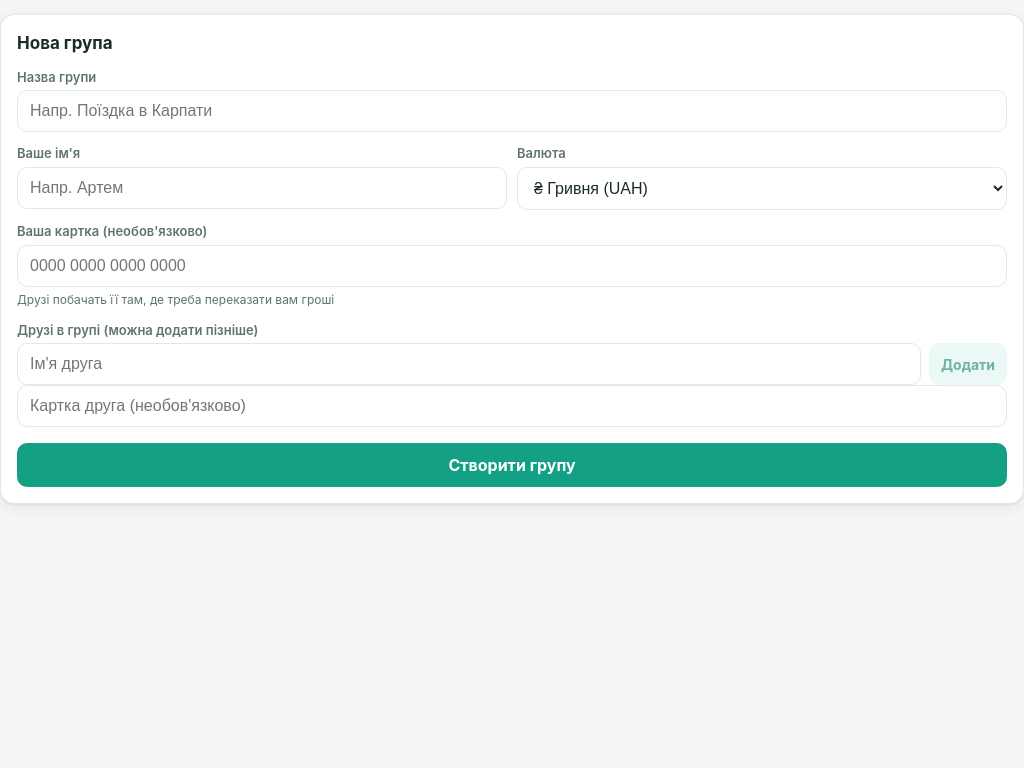
Test: CreateGroupForm › shows the server error and stays on the form
Step 1. Type "Карпати" into the field labelled "Назва групи" → coordinates (512, 112), box [17,90,1007,132]
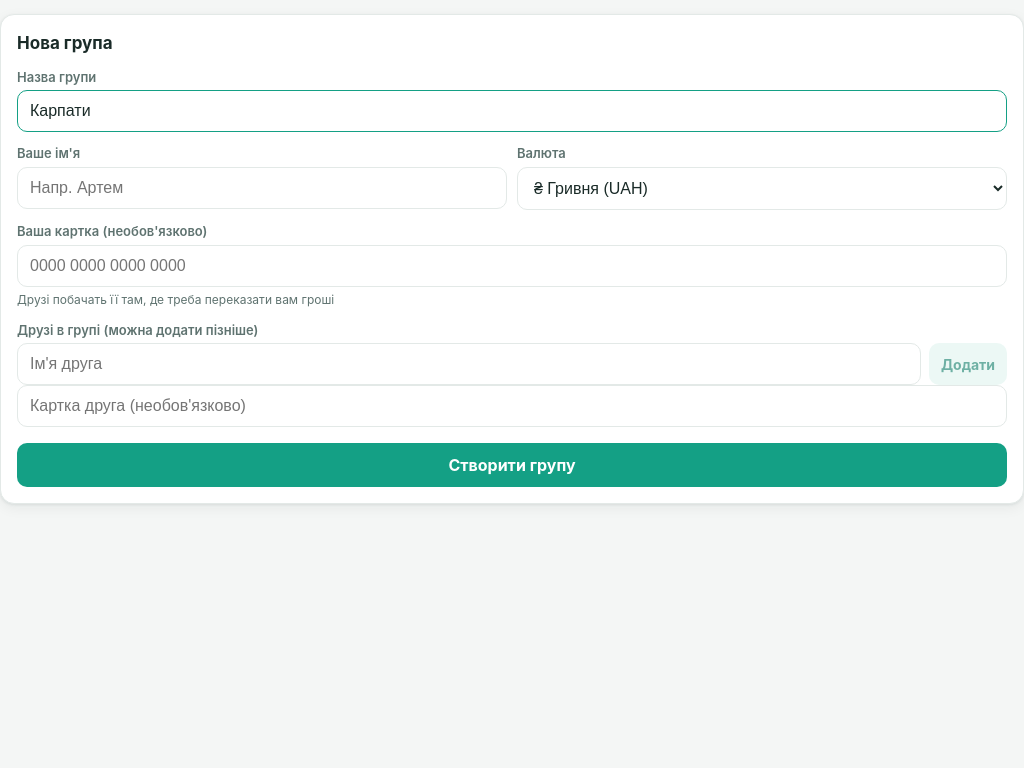
Step 2. Type "Артем" into the field labelled "Ваше ім'я" → coordinates (262, 188), box [17,167,507,209]
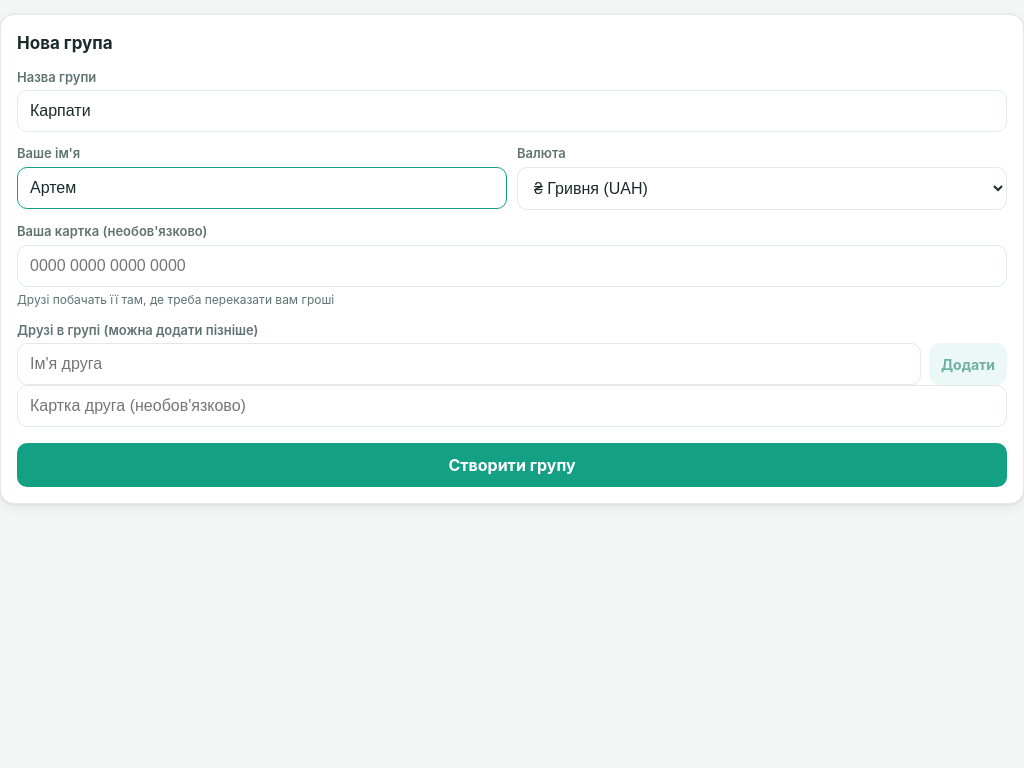
Step 3. Click the button "Створити групу" → coordinates (512, 465), box [17,443,1007,487]
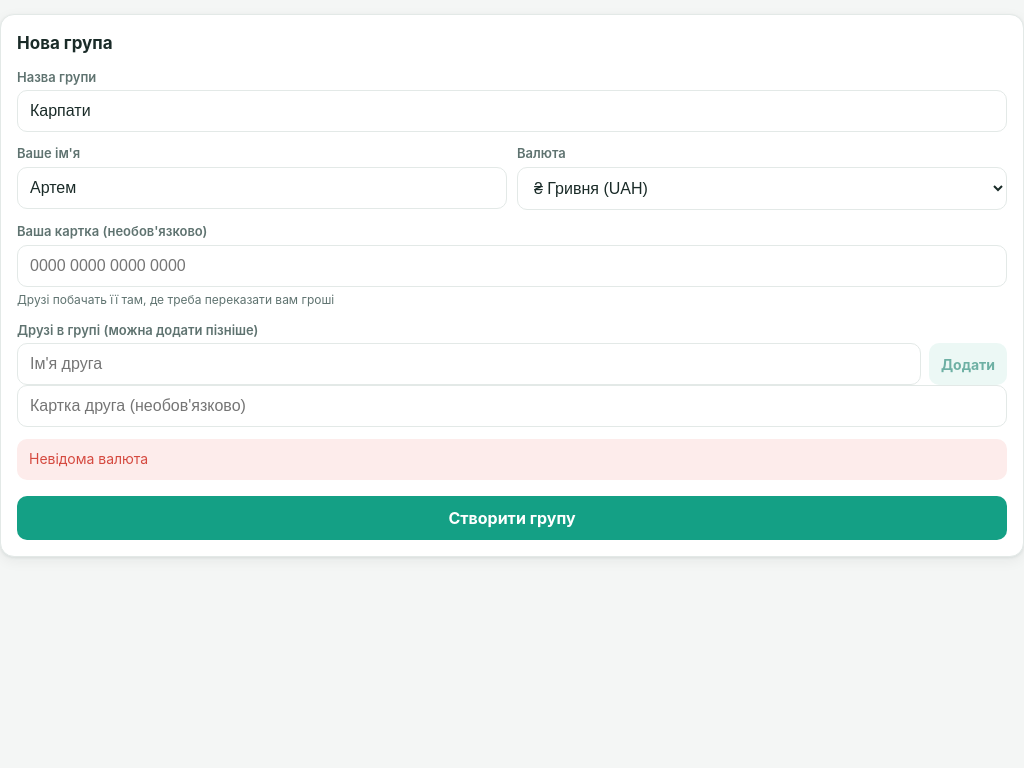
Now the text "Невідома валюта" is shown, box [17,439,1007,480]
